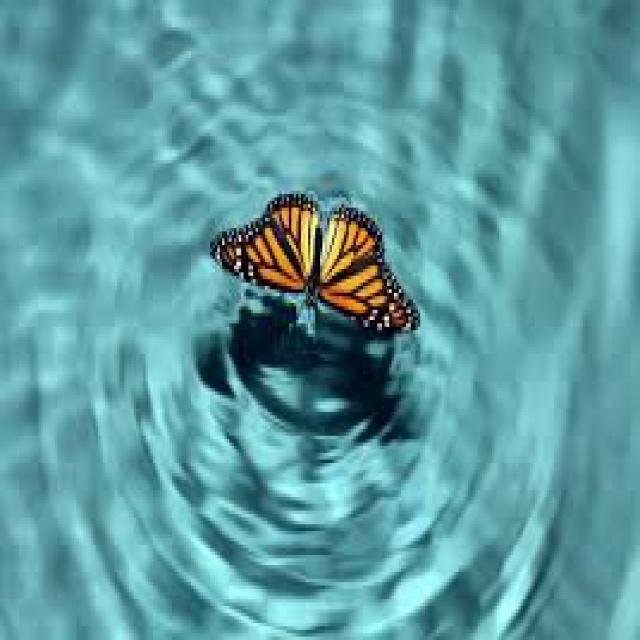butterfly: (210, 194, 418, 330)
